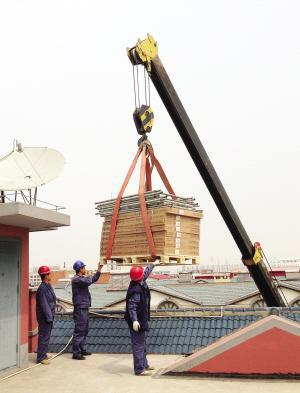helmet: (129, 263, 146, 284), (36, 263, 52, 285), (72, 258, 88, 277)
